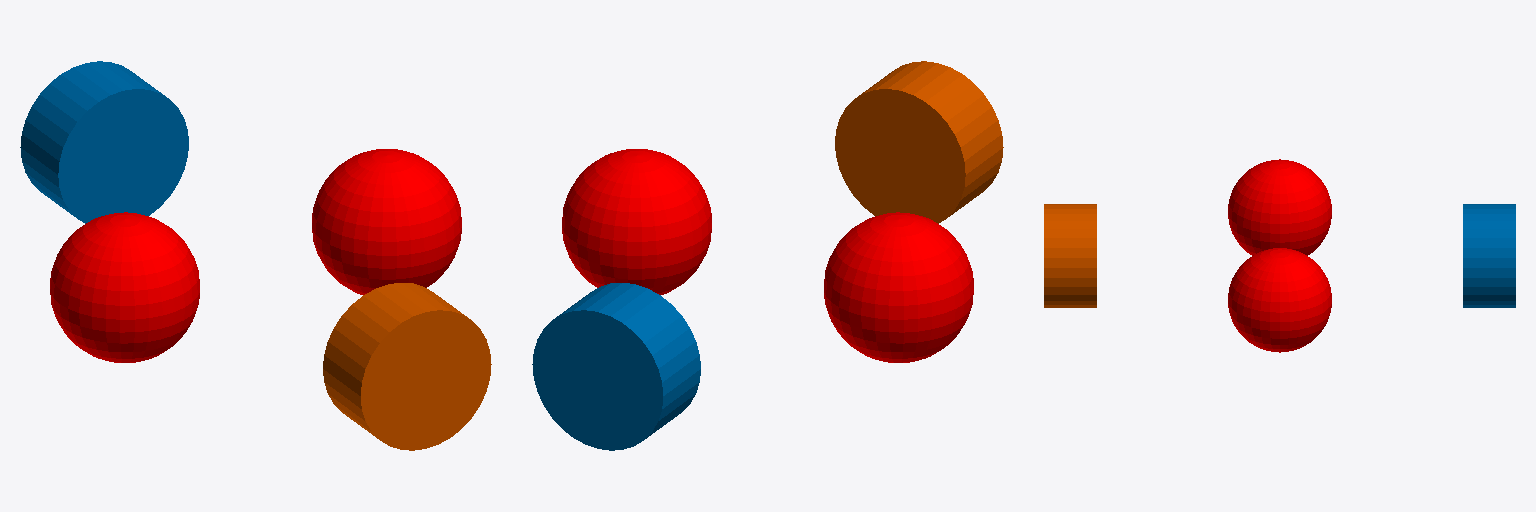
URDF robot description (bot):
<?xml version="1.0" ?>
<!-- =================================================================================== -->
<!-- |    This document was autogenerated by xacro from bot.urdf.xacro                 | -->
<!-- |    EDITING THIS FILE BY HAND IS NOT RECOMMENDED                                 | -->
<!-- =================================================================================== -->
<robot name="bot">
  <link name="base_footprint"/>
  <joint name="base_to_base" type="fixed">
    <parent link="base_footprint"/>
    <child link="base_link"/>
    <origin rpy="0 0 0" xyz="0 0 0"/>
  </joint>
  <!-- camera -->
  <gazebo reference="camera_link_R">
    <sensor name="camera_R" type="camera">
      <update_rate>30.0</update_rate>
      <camera name="head">
        <horizontal_fov>1.3962634</horizontal_fov>
        <image>
          <width>720</width>
          <height>480</height>
          <format>R8G8B8</format>
        </image>
        <clip>
          <near>0.02</near>
          <far>300</far>
        </clip>
        <noise>
          <type>gaussian</type>
          <!-- Noise is sampled independently per pixel on each frame.
                    That pixel's noise value is added to each of its color
                    channels, which at that point lie in the range [0,1]. -->
          <mean>0.0</mean>
          <stddev>0.007</stddev>
        </noise>
      </camera>
      <plugin filename="libgazebo_ros_camera.so" name="camera_controller">
        <alwaysOn>true</alwaysOn>
        <updateRate>0.0</updateRate>
        <cameraName>bot/camera_R</cameraName>
        <imageTopicName>image_raw_R</imageTopicName>
        <cameraInfoTopicName>camera_R_info</cameraInfoTopicName>
        <frameName>camera_link_R</frameName>
        <hackBaseline>0.07</hackBaseline>
        <distortionK1>0.0</distortionK1>
        <distortionK2>0.0</distortionK2>
        <distortionK3>0.0</distortionK3>
        <distortionT1>0.0</distortionT1>
        <distortionT2>0.0</distortionT2>
      </plugin>
    </sensor>
  </gazebo>
  <gazebo reference="camera_link_L">
    <sensor name="camera_L" type="camera">
      <update_rate>30.0</update_rate>
      <camera name="head">
        <horizontal_fov>1.3962634</horizontal_fov>
        <image>
          <width>720</width>
          <height>480</height>
          <format>R8G8B8</format>
        </image>
        <clip>
          <near>0.02</near>
          <far>300</far>
        </clip>
        <noise>
          <type>gaussian</type>
          <!-- Noise is sampled independently per pixel on each frame.
                    That pixel's noise value is added to each of its color
                    channels, which at that point lie in the range [0,1]. -->
          <mean>0.0</mean>
          <stddev>0.007</stddev>
        </noise>
      </camera>
      <plugin filename="libgazebo_ros_camera.so" name="camera_controller">
        <alwaysOn>true</alwaysOn>
        <updateRate>0.0</updateRate>
        <cameraName>bot/camera_L</cameraName>
        <imageTopicName>image_raw_L</imageTopicName>
        <cameraInfoTopicName>camera_L_info</cameraInfoTopicName>
        <frameName>camera_link_L</frameName>
        <hackBaseline>0.07</hackBaseline>
        <distortionK1>0.0</distortionK1>
        <distortionK2>0.0</distortionK2>
        <distortionK3>0.0</distortionK3>
        <distortionT1>0.0</distortionT1>
        <distortionT2>0.0</distortionT2>
      </plugin>
    </sensor>
  </gazebo>
  <gazebo>
    <plugin filename="libgazebo_ros_diff_drive.so" name="differential_drive_controller">
      <!-- Plugin update rate in Hz -->
      <updateRate>10</updateRate>
      <!-- Name of left joint, defaults to `left_joint` -->
      <left_joint>left_wheel_hinge</left_joint>
      <!-- Name of right joint, defaults to `right_joint` -->
      <right_joint>right_wheel_hinge</right_joint>
      <!-- The distance from the center of one wheel to the other, in meters, defaults to 0.34 m -->
      <wheel_separation>0.4</wheel_separation>
      <!-- Diameter of the wheels, in meters, defaults to 0.15 m -->
      <wheel_diameter>0.1</wheel_diameter>
      <!-- Wheel acceleration, in rad/s^2, defaults to 0.0 rad/s^2 -->
      <wheel_acceleration>1.0</wheel_acceleration>
      <!-- Maximum torque which the wheels can produce, in Nm, defaults to 5 Nm -->
      <wheel_torque>10</wheel_torque>
      <!-- Topic to receive geometry_msgs/Twist message commands, defaults to `cmd_vel` -->
      <command_topic>cmd_vel</command_topic>
      <!-- Topic to publish nav_msgs/Odometry messages, defaults to `odom` -->
      <odometry_topic>/odom</odometry_topic>
      <!-- Odometry frame, defaults to `odom` -->
      <odometry_frame>odom</odometry_frame>
      <!-- Robot frame to calculate odometry from, defaults to `base_footprint` -->
      <robot_baseframe>base_link</robot_baseframe>
      <!-- Odometry source, 0 for ENCODER, 1 for WORLD, defaults to WORLD -->
      <odometry_source>1</odometry_source>
      <ros>
        <remapping>/cmd_vel:=diff_drive/cmd_vel</remapping>
      </ros>
      <!-- Set to true to publish transforms for the wheel links, defaults to false -->
      <publish_odom>1</publish_odom>
      <publish_odom_tf>1</publish_odom_tf>
      <publish_wheel_tf>0</publish_wheel_tf>
    </plugin>
  </gazebo>
  <gazebo reference="base_link">
    <material>
                Gazebo/White
            </material>
  </gazebo>
  <gazebo reference="right_wheel">
    <material>
                Gazebo/Blue
            </material>
  </gazebo>
  <gazebo reference="left_wheel">
    <material>
                Gazebo/Blue
            </material>
  </gazebo>
  <gazebo reference="camera_link">
    <material>
                Gazebo/Gray
            </material>
  </gazebo>
  <!-- hokuyo -->
  <gazebo reference="hokuyo_link">
    <sensor name="head_hokuyo_sensor" type="gpu_ray">
      <pose>0 0 0 0 0 0</pose>
      <visualize>false</visualize>
      <update_rate>40</update_rate>
      <ray>
        <scan>
          <horizontal>
            <samples>720</samples>
            <resolution>1</resolution>
            <min_angle>-1.570796</min_angle>
            <max_angle>1.570796</max_angle>
          </horizontal>
        </scan>
        <range>
          <min>0.10</min>
          <max>30.0</max>
          <resolution>0.01</resolution>
        </range>
        <noise>
          <type>gaussian</type>
          <!-- Noise parameters based on published spec for Hokuyo laser
               achieving "+-30mm" accuracy at range < 10m.  A mean of 0.0m and
               stddev of 0.01m will put 99.7% of samples within 0.03m of the true
               reading. -->
          <mean>0.0</mean>
          <stddev>0.01</stddev>
        </noise>
      </ray>
      <plugin filename="ibgazebo_ros_ray_sensor.so" name="base_scan">
        <ros>
          <remapping>~/out:=scan</remapping>
        </ros>
        <output_type>sensor_msgs/LaserScan</output_type>
        <frame_name>base_scan</frame_name>
        <base_frame_id>base_link</base_frame_id>
      </plugin>
    </sensor>
  </gazebo>
  <link name="base_link">
    <pose>0 0 0 0 0 0</pose>
    <inertial>
      <mass value="1"/>
      <origin rpy=" 0 0 0" xyz="0.0 0 0.0"/>
      <inertia ixx="0.00416" ixy="0" ixz="0" iyy="0.01416" iyz="0" izz="0.0166"/>
    </inertial>
    <collision name="collision">
      <origin rpy=" 0 0 0" xyz="0.0 0 0.0"/>
      <geometry>
        <box size=".4 .5 .05"/>
      </geometry>
    </collision>
    <!--
    <visual name='chassis_visual'>
      <origin xyz="0 0 0" rpy="0 0 0"/>
      <geometry>
        <box size=".4 .5 .6"/>
      </geometry>
    </visual>-->
    <visual name="chassis_visual">
      <origin rpy="1.57 0 1.57" xyz="-0.205 -0.358 0"/>
      <geometry>
        <mesh filename="package://waiter/meshes/marses_robot.stl" scale="0.001 0.001 0.001"/>
      </geometry>
    </visual>
  </link>
  <link name="custer_wheel">
    <inertial>
      <origin rpy="0.0 0.0 0.0" xyz="0.0 0.0 0.0"/>
      <mass value="0.1"/>
      <inertia ixx="0.002" ixy="0.0" ixz="0.0" iyy="0.002" iyz="0.0" izz="0.002"/>
    </inertial>
    <visual name="">
      <origin rpy="0.0 0.0 0.0" xyz="0.0 0.0 0.0"/>
      <geometry>
        <sphere radius="0.05"/>
      </geometry>
      <material name="">
        <color rgba="1.0 0.0 0.0 1.0"/>
        <texture filename=""/>
      </material>
    </visual>
    <collision>
      <origin rpy="0.0 0.0 0.0" xyz="0.0 0.0 0.0"/>
      <geometry>
        <sphere radius="0.05"/>
      </geometry>
    </collision>
  </link>
  <joint name="custer_joint" type="fixed">
    <origin rpy="0.0 0.0 0.0" xyz="-0.1 0.0 0"/>
    <parent link="base_link"/>
    <child link="custer_wheel"/>
    <axis xyz="0.0 0.0 0.0"/>
    <limit effort="0.0" lower="0.0" upper="0.0" velocity="0.0"/>
  </joint>
  <link name="custer_wheel2">
    <inertial>
      <origin rpy="0.0 0.0 0.0" xyz="0.0 0.0 0.0"/>
      <mass value="0.1"/>
      <inertia ixx="0.002" ixy="0.0" ixz="0.0" iyy="0.002" iyz="0.0" izz="0.002"/>
    </inertial>
    <visual name="">
      <origin rpy="0.0 0.0 0.0" xyz="0.0 0.0 0.0"/>
      <geometry>
        <sphere radius="0.05"/>
      </geometry>
      <material name="">
        <color rgba="1.0 0.0 0.0 1.0"/>
        <texture filename=""/>
      </material>
    </visual>
    <collision>
      <origin rpy="0.0 0.0 0.0" xyz="0.0 0.0 0.0"/>
      <geometry>
        <sphere radius="0.05"/>
      </geometry>
    </collision>
  </link>
  <joint name="custer_joint2" type="fixed">
    <origin rpy="0.0 0.0 0.0" xyz="0.1 0.0 0"/>
    <parent link="base_link"/>
    <child link="custer_wheel2"/>
    <axis xyz="0.0 0.0 0.0"/>
    <limit effort="0.0" lower="0.0" upper="0.0" velocity="0.0"/>
  </joint>
  <link name="left_wheel">
    <!--origin xyz="0.1 0.13 0.1" rpy="0 1.5707 1.5707"/-->
    <collision name="collision">
      <origin rpy="0 1.5707 1.5707" xyz="0 0 0"/>
      <geometry>
        <cylinder length="0.05" radius="0.05"/>
      </geometry>
    </collision>
    <visual name="left_wheel_visual">
      <origin rpy="0 1.5707 1.5707" xyz="0 0 0"/>
      <geometry>
        <cylinder length="0.05" radius="0.05"/>
      </geometry>
      <!--<material name="yellow"/>-->
    </visual>
    <inertial>
      <origin rpy="0 1.5707 1.5707" xyz="0 0 0"/>
      <mass value="1"/>
      <inertia ixx="0.005" ixy="0" ixz="0" iyy="0.0025" iyz="0" izz="0.0025"/>
    </inertial>
  </link>
  <link name="right_wheel">
    <!--origin xyz="0.1 -0.13 0.1" rpy="0 1.5707 1.5707"/-->
    <collision name="collision">
      <origin rpy="0 1.5707 1.5707" xyz="0 0 0"/>
      <geometry>
        <cylinder length="0.05" radius="0.05"/>
      </geometry>
      <surface>
        <friction>
          <ode>
            <mu>200</mu>
            <mu2>200</mu2>
            <slip1>0</slip1>
            <slip2>0</slip2>
          </ode>
        </friction>
      </surface>
    </collision>
    <visual name="right_wheel_visual">
      <origin rpy="0 1.5707 1.5707" xyz="0 0 0"/>
      <geometry>
        <cylinder length="0.05" radius="0.05"/>
      </geometry>
      <!--<material name="yellow"/>-->
    </visual>
    <inertial>
      <origin rpy="0 1.5707 1.5707" xyz="0 0 0"/>
      <mass value="1"/>
      <inertia ixx="0.005" ixy="0" ixz="0" iyy="0.0025" iyz="0" izz="0.0025"/>
    </inertial>
  </link>
  <joint name="left_wheel_hinge" type="continuous">
    <origin rpy="0 0 0" xyz="0 0.2 0"/>
    <!--origin xyz="0.1 0.13 0" rpy="0 1.5707 1.5707"/-->
    <child link="left_wheel"/>
    <parent link="base_link"/>
    <axis rpy="0 0 0" xyz="0 1 0"/>
    <!-- <limit effort="10000" velocity="1000"/> -->
    <joint_properties damping="0.0" friction="0.0"/>
  </joint>
  <joint name="right_wheel_hinge" type="continuous">
    <origin rpy="0 0 0" xyz="0 -0.2 0"/>
    <!--origin xyz="0.1 -0.13 0" rpy="0 1.5707 1.5707"/-->
    <child link="right_wheel"/>
    <parent link="base_link"/>
    <axis rpy="0 0 0" xyz="0 1 0"/>
    <!-- <limit effort="10000" velocity="1000"/> -->
    <joint_properties damping="0.0" friction="0.0"/>
  </joint>
  <!-- Hokuyo Laser -->
  <link name="base_scan">
    <collision>
      <origin rpy="0 0 0" xyz="0 0 0"/>
      <geometry>
        <box size="0.1 0.1 0.1"/>
      </geometry>
    </collision>
    <visual>
      <origin rpy="0 0 0" xyz="0 0 0"/>
      <geometry>
        <mesh filename="package://waiter/meshes/hokuyo.dae"/>
      </geometry>
    </visual>
    <inertial>
      <mass value="1e-5"/>
      <origin rpy="0 0 0" xyz="0 0 0"/>
      <inertia ixx="1e-6" ixy="0" ixz="0" iyy="1e-6" iyz="0" izz="1e-6"/>
    </inertial>
  </link>
  <joint name="hokuyo_joint" type="fixed">
    <axis xyz="0 1 0"/>
    <origin rpy="0 0 0" xyz="0.2 0 0.35"/>
    <parent link="base_link"/>
    <child link="base_scan"/>
  </joint>
</robot>

--- Render facts (derived) ---
3 views of the same robot in one strip: view 1: azimuth 30°, elevation 25°; view 2: azimuth 150°, elevation 25°; view 3: azimuth 270°, elevation 25° (orthographic).
Model bot with 7 links and 6 joints (2 continuous, 4 fixed), rooted at base_footprint, posed every joint at zero.
Links seen in each view (by area): view 1: right_wheel, left_wheel, custer_wheel, custer_wheel2; view 2: left_wheel, right_wheel, custer_wheel, custer_wheel2; view 3: custer_wheel2, custer_wheel, left_wheel, right_wheel.
Link boxes in pixels (box(x1,y1,x2,y2)): right_wheel: box(323, 283, 491, 450); left_wheel: box(20, 61, 188, 223); custer_wheel: box(50, 212, 199, 362); custer_wheel2: box(312, 149, 461, 294); left_wheel: box(532, 283, 700, 450); right_wheel: box(835, 61, 1003, 223); custer_wheel: box(824, 212, 973, 362); custer_wheel2: box(562, 149, 711, 294); custer_wheel2: box(1228, 248, 1331, 352); custer_wheel: box(1228, 159, 1331, 255); left_wheel: box(1463, 204, 1515, 307); right_wheel: box(1044, 204, 1096, 307).
Size in the robot's own frame: 0.3 by 0.45 by 0.1 metres.
0 mesh visuals loaded from 2 distinct referenced files (none loaded); not drawn: 2 (reference not matched to a file when rendering).
